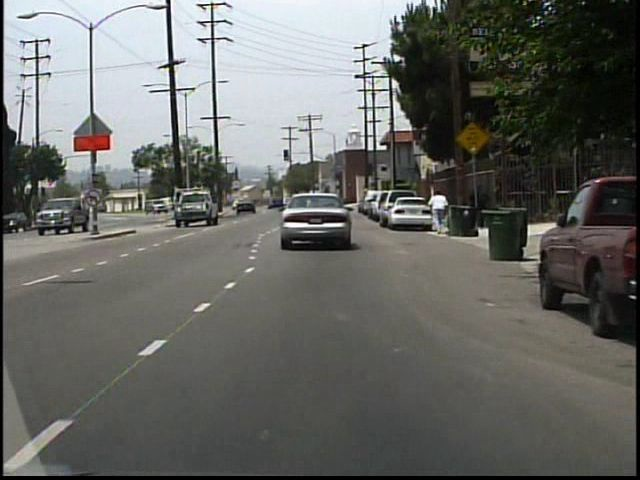person: (428, 187, 450, 236)
